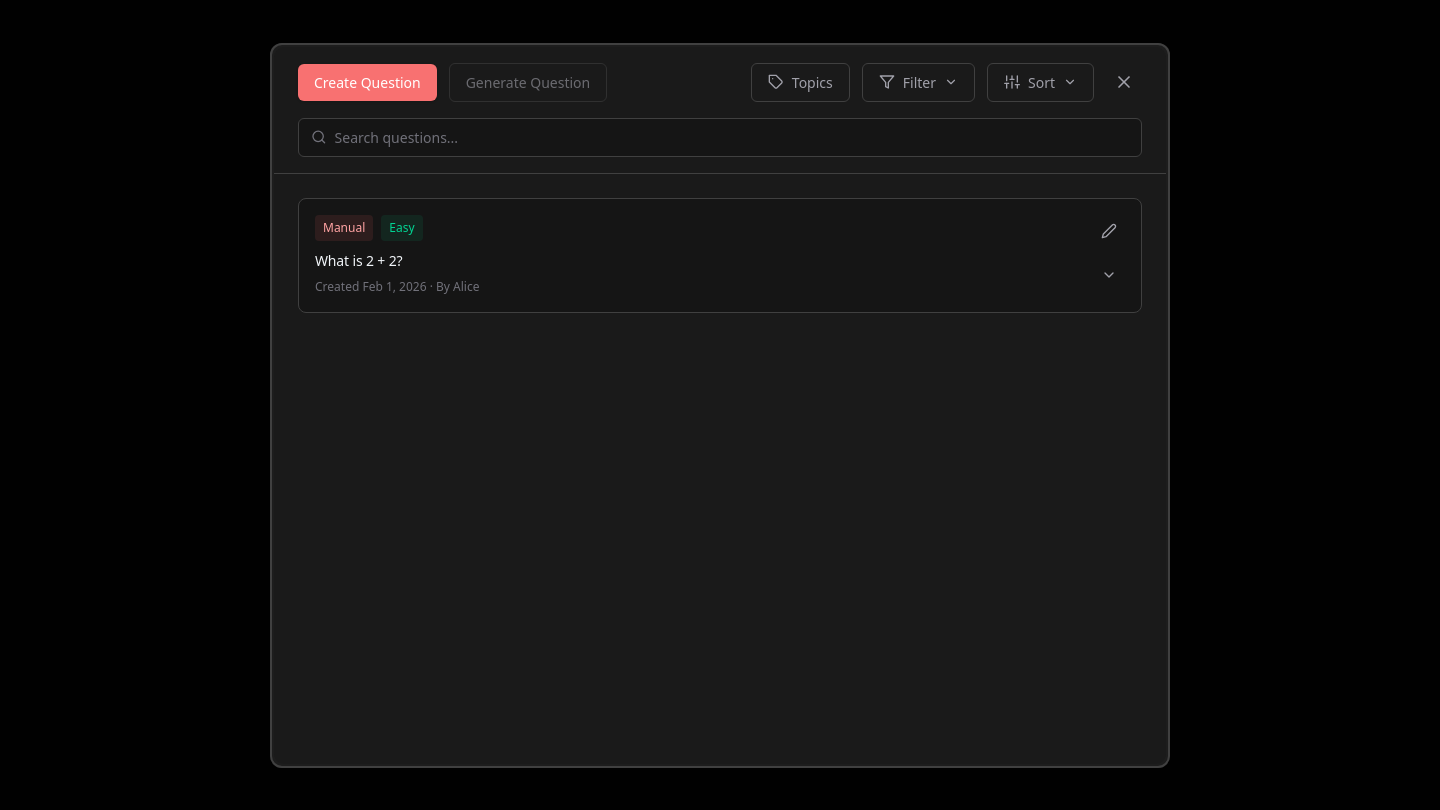
Test case: ManageQuestionsModal › opens the Topic filter modal when Topic toolbar button is clicked
Click the button with aria-label "Filter by topic".
click(800, 82)  # box [751,62,850,102]
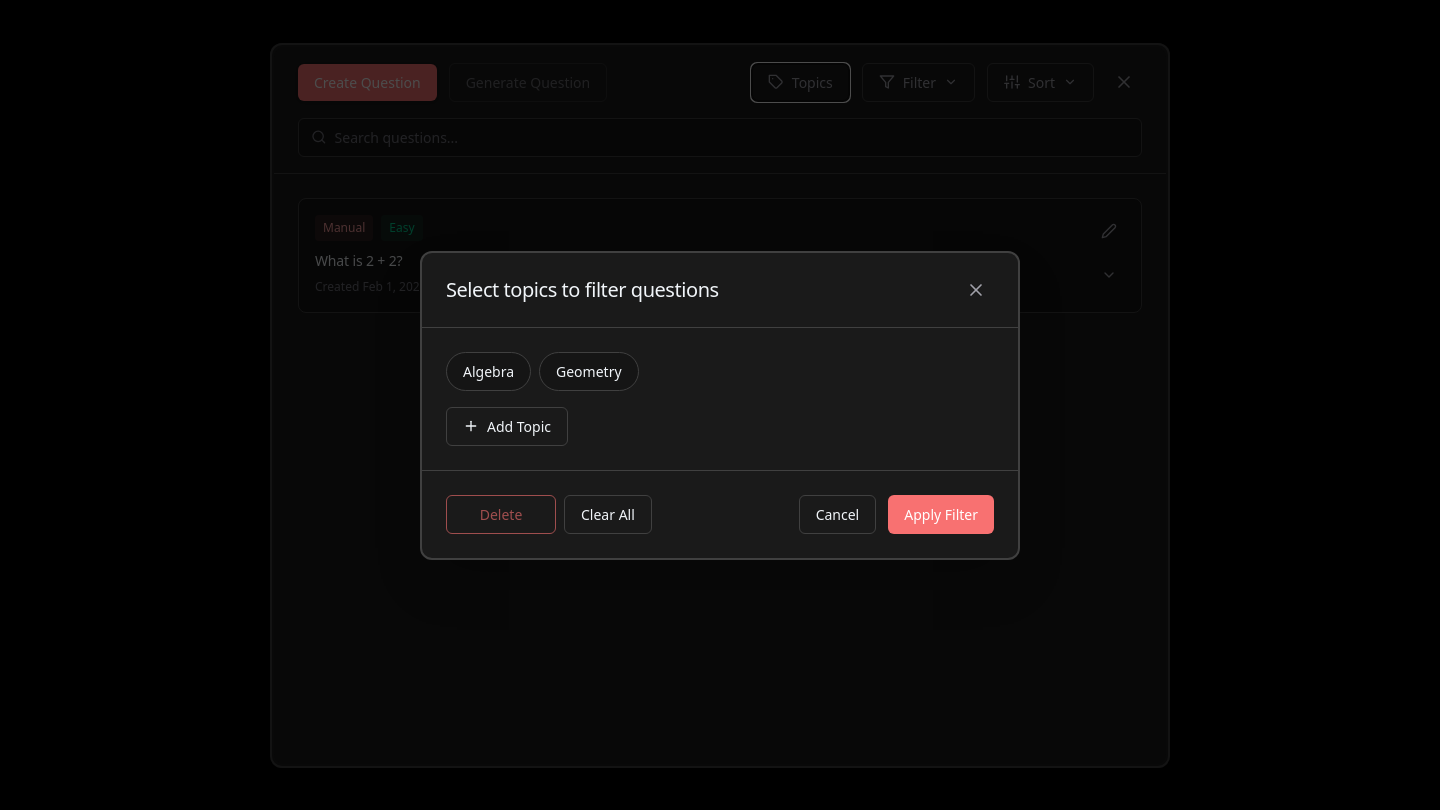
expect the heading "Select topics to filter questions" is shown: met, box [446,274,719,304]
